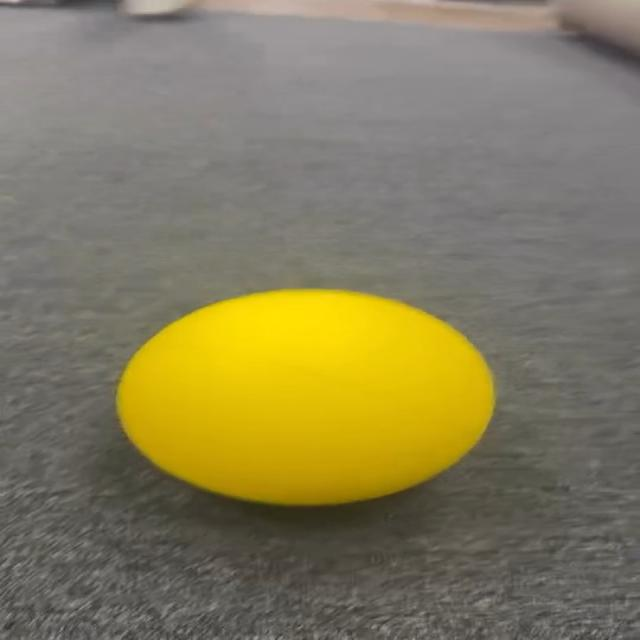Fuels: (118, 290, 493, 504)
